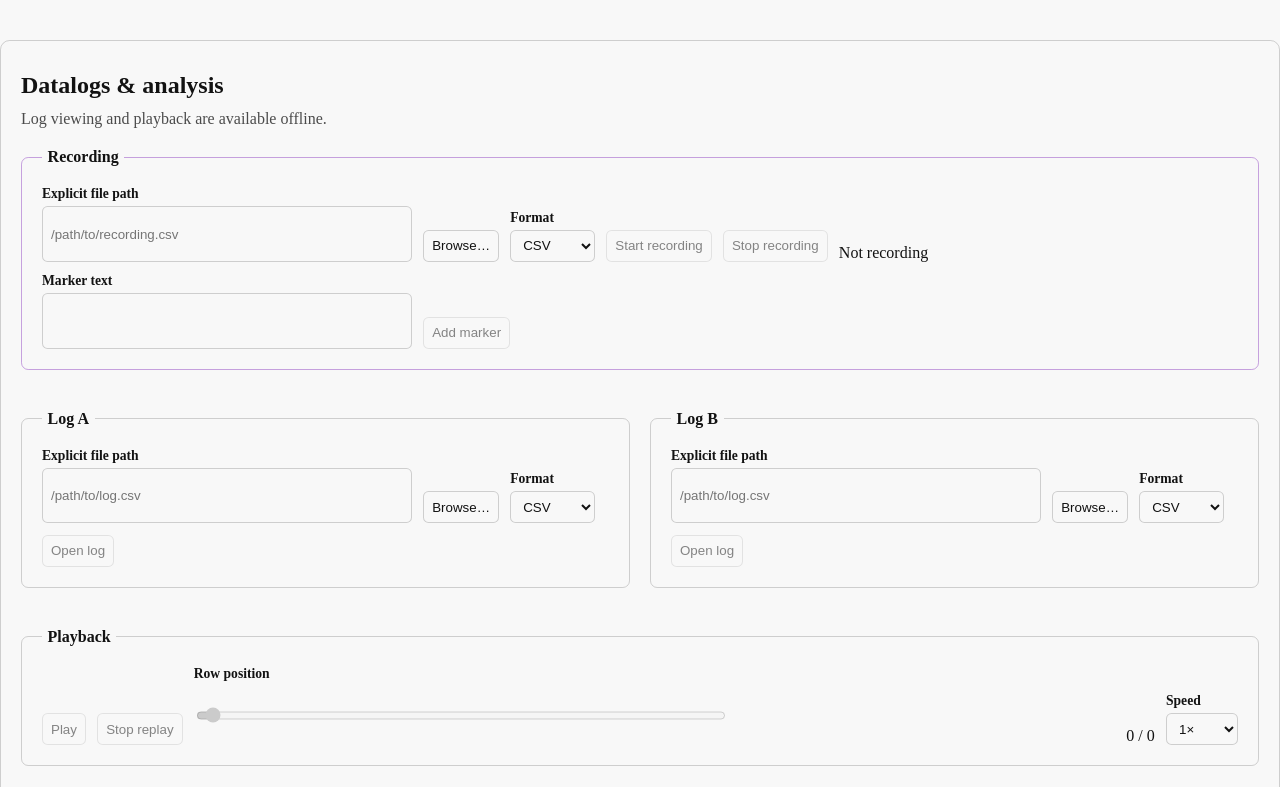
Test case: DatalogPanel › Browse buttons (native file dialogs) › Log A Browse opens a native open dialog filtered to csv/mlg and fills the path
Click the 2nd button "Browse…".
click(461, 507)  # box [423,491,499,523]
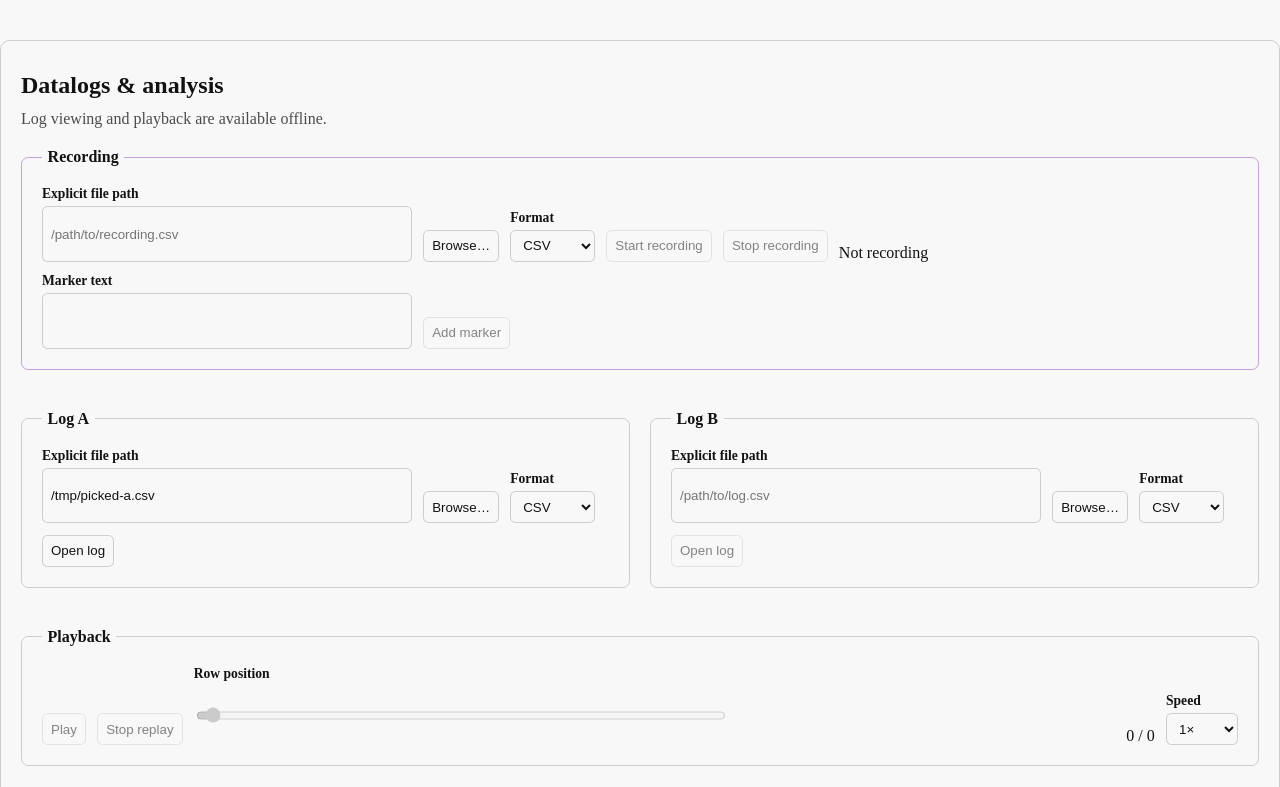
Expected: the 2nd field with placeholder "/path/to/log.csv" holds "/tmp/picked-a.csv", [42,468,412,523]
